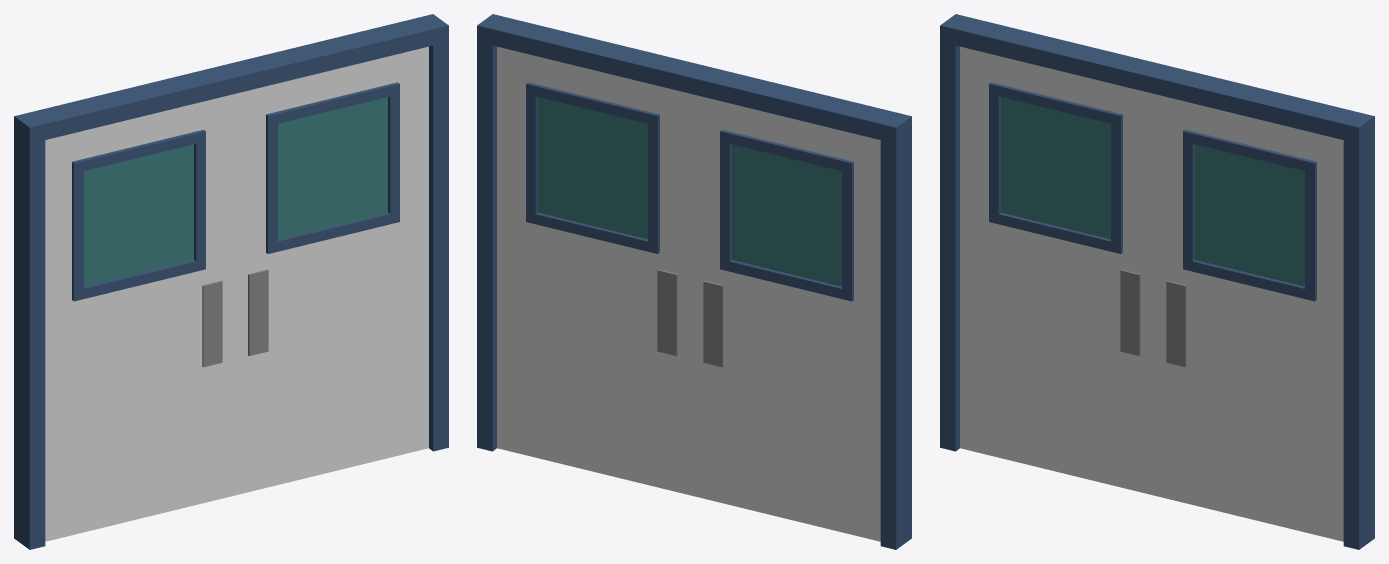
File: Doors3.fbx
3 views of the same model, side by side, from view 1: azimuth 30°, elevation 25°; view 2: azimuth 150°, elevation 25°; view 3: azimuth 330°, elevation 25° (orthographic).
Parts seen in each view (by area): view 1: pCube345, pCube347, pCube346; view 2: pCube345, pCube347, pCube346; view 3: pCube347, pCube345, pCube346.
Part boxes in pixels (x1,y1,x2,y2): pCube345: [235, 46, 428, 495]; pCube347: [45, 94, 234, 541]; pCube346: [14, 14, 448, 549]; pCube345: [497, 46, 690, 495]; pCube347: [691, 94, 880, 541]; pCube346: [477, 14, 911, 549]; pCube347: [960, 46, 1153, 495]; pCube345: [1154, 94, 1343, 541]; pCube346: [940, 14, 1374, 549].
Bounding box in the file's own units: 216 × 14 × 208.
